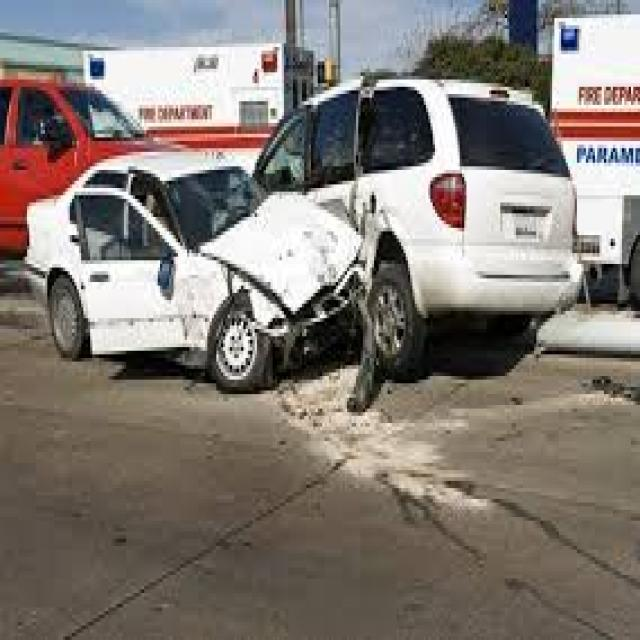accident: (32, 71, 590, 422)
